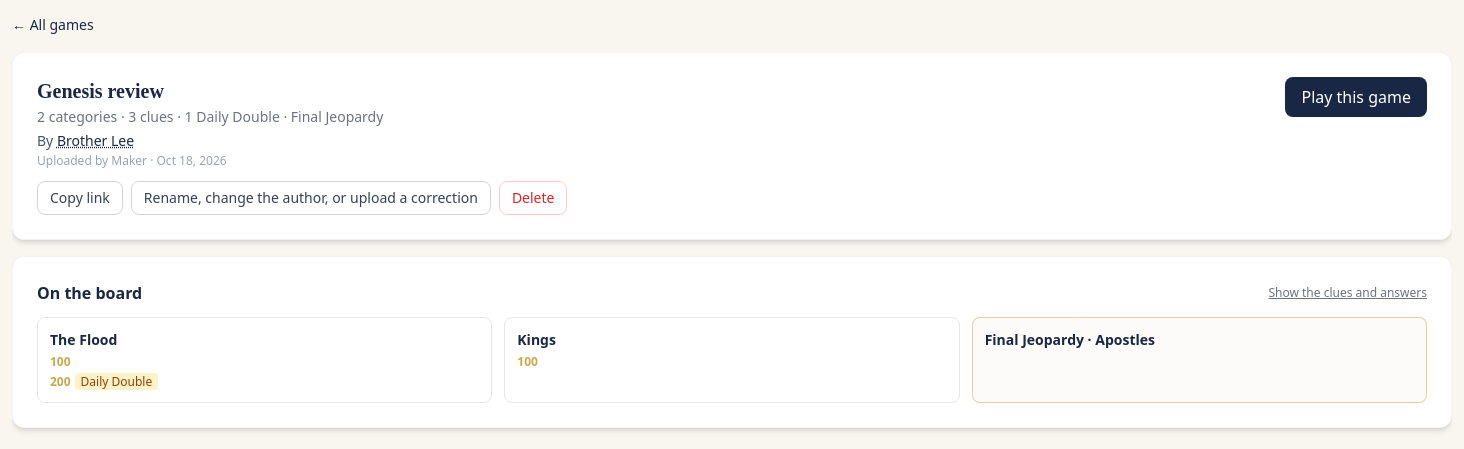
Test: the list of games › the author's name on a game shows all of their games
The image size is (1464, 449).
Click the button "Brother Lee": (96, 141) [57, 131, 134, 151]
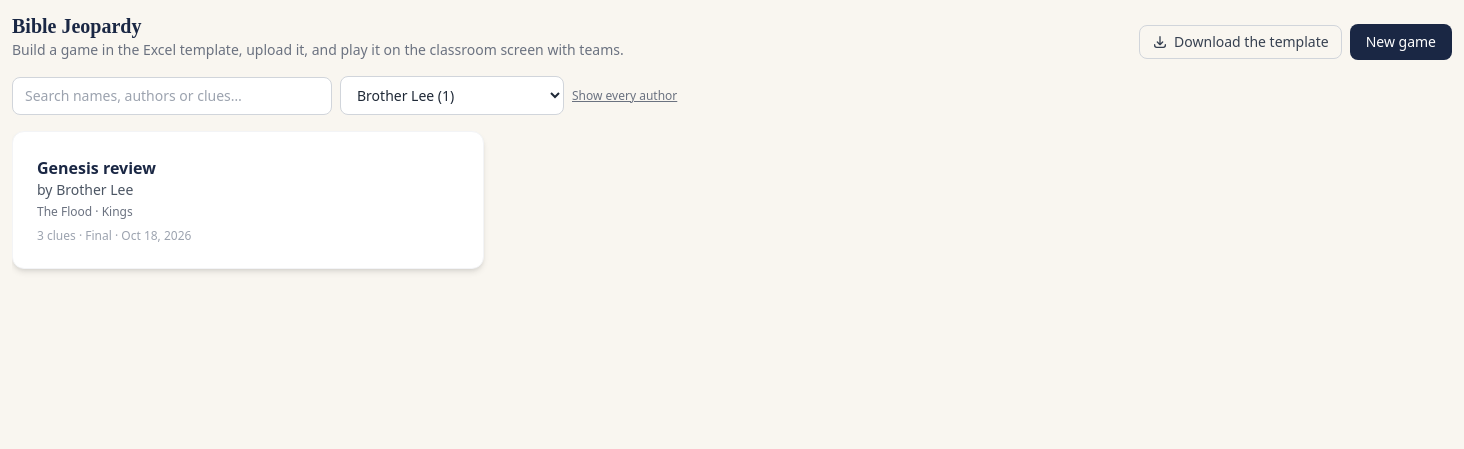
Result: the dropdown named "Author" shows "Brother Lee (1)" at [340, 76, 564, 115]
